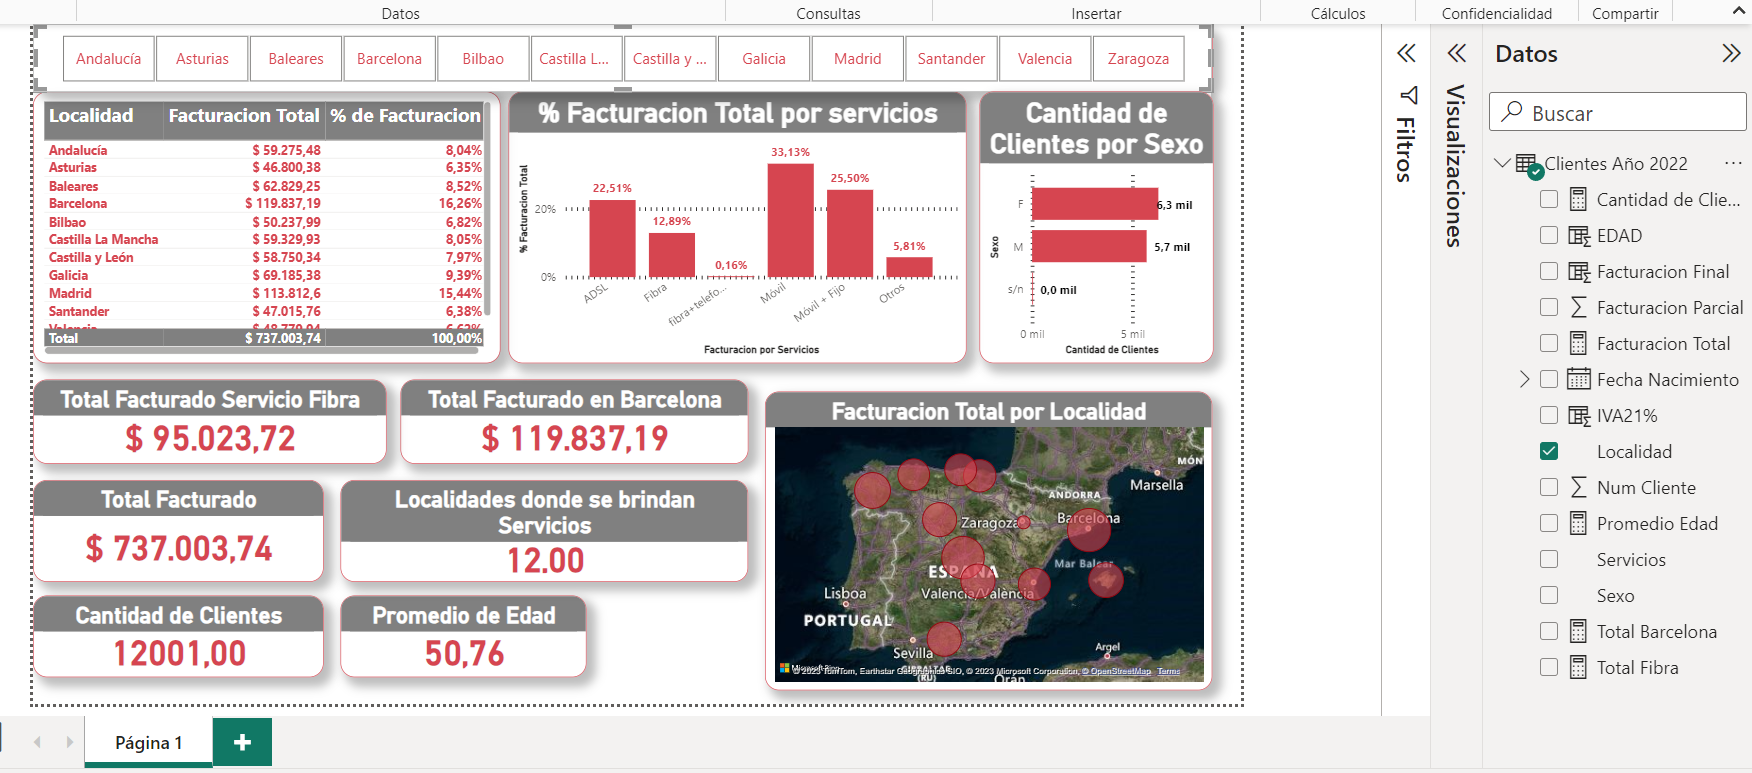

Layout of this report page (visuals, bound fields, positions):
{"tool":"powerbi","page":{"name":"Página 1","canvas":[1280,720],"ordinal":0},"visuals":[{"type":"card","title":"Total Facturado","fields":{"Values":["Clientes Año 2022.Facturacion Total"]},"box":[0,482.4,308.2,108],"z":0},{"type":"card","title":"Cantidad de Clientes","fields":{"Values":["Clientes Año 2022.Cantidad de Clientes"]},"box":[0,604.8,308.2,86.4],"z":1000},{"type":"card","title":"Promedio de Edad","fields":{"Values":["Clientes Año 2022.Promedio Edad"]},"box":[325.4,604.8,260.6,86.4],"z":2000},{"type":"card","title":"Total Facturado en Barcelona","fields":{"Values":["Clientes Año 2022.Total Barcelona"]},"box":[388.8,377.3,368.6,89.3],"z":3000},{"type":"card","title":"Total Facturado Servicio Fibra","fields":{"Values":["Clientes Año 2022.Total Fibra"]},"box":[0,377.3,374.4,89.3],"z":4000},{"type":"card","title":"Localidades donde se brindan Servicios ","fields":{"Values":["Count(Clientes Año 2022.Localidad)"]},"box":[325.4,482.4,432,108],"z":5000},{"type":"tableEx","fields":{"Values":["Clientes Año 2022.Localidad","Clientes Año 2022.Facturacion Total","Divide(Clientes Año 2022.Facturacion Total, ScopedEval(Clientes Año 2022.Facturacion Total, []))"]},"box":[0,72,495.4,288],"z":6000},{"type":"clusteredColumnChart","title":"% Facturacion Total por servicios","fields":{"Y":["Clientes Año 2022.Facturacion Total"],"Category":["Clientes Año 2022.Servicios"]},"box":[504,72,485.3,288],"z":7000},{"type":"map","fields":{"Category":["Clientes Año 2022.Localidad"],"Size":["Clientes Año 2022.Facturacion Total"]},"box":[776.2,388.8,473.8,316.8],"z":8000},{"type":"slicer","fields":{"Values":["Clientes Año 2022.Localidad"]},"box":[0,0,1249.9,72],"z":9000},{"type":"clusteredBarChart","fields":{"Category":["Clientes Año 2022.Sexo"],"Y":["Clientes Año 2022.Cantidad de Clientes"]},"box":[1002.2,72,247.7,288],"z":9001}]}

Visuals, with their boxes on the page's 1280x720 design canvas (x1, y1, x2, y2). These are canvas units, not pixel positions in the 1752x773 screenshot, which may show the page scaled, cropped or inside an application window:
"Total Facturado" card: (0, 482, 308, 590)
"Cantidad de Clientes" card: (0, 605, 308, 691)
"Promedio de Edad" card: (325, 605, 586, 691)
"Total Facturado en Barcelona" card: (389, 377, 757, 467)
"Total Facturado Servicio Fibra" card: (0, 377, 374, 467)
"Localidades donde se brindan Servicios " card: (325, 482, 757, 590)
tableEx - Clientes Año 2022.Localidad x Clientes Año 2022.Facturacion Total: (0, 72, 495, 360)
"% Facturacion Total por servicios" clusteredColumnChart: (504, 72, 989, 360)
map - Clientes Año 2022.Localidad x Clientes Año 2022.Facturacion Total: (776, 389, 1250, 706)
slicer - Clientes Año 2022.Localidad: (0, 0, 1250, 72)
clusteredBarChart - Clientes Año 2022.Sexo x Clientes Año 2022.Cantidad de Clientes: (1002, 72, 1250, 360)
